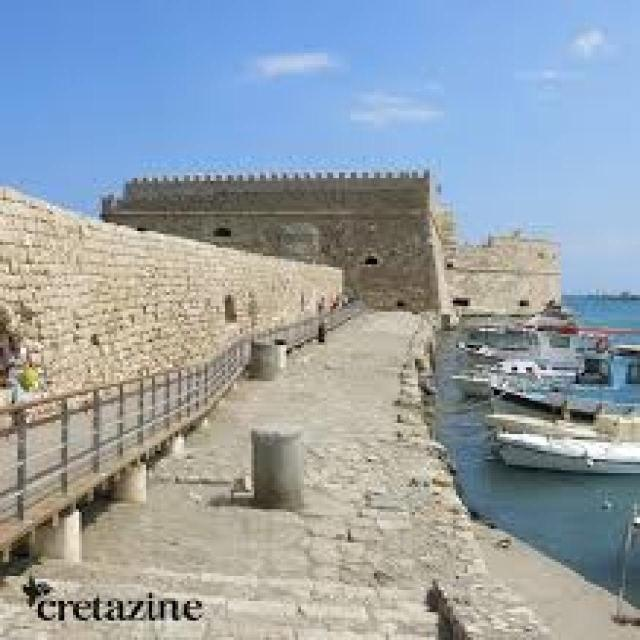Kules: (98, 145, 564, 326)
